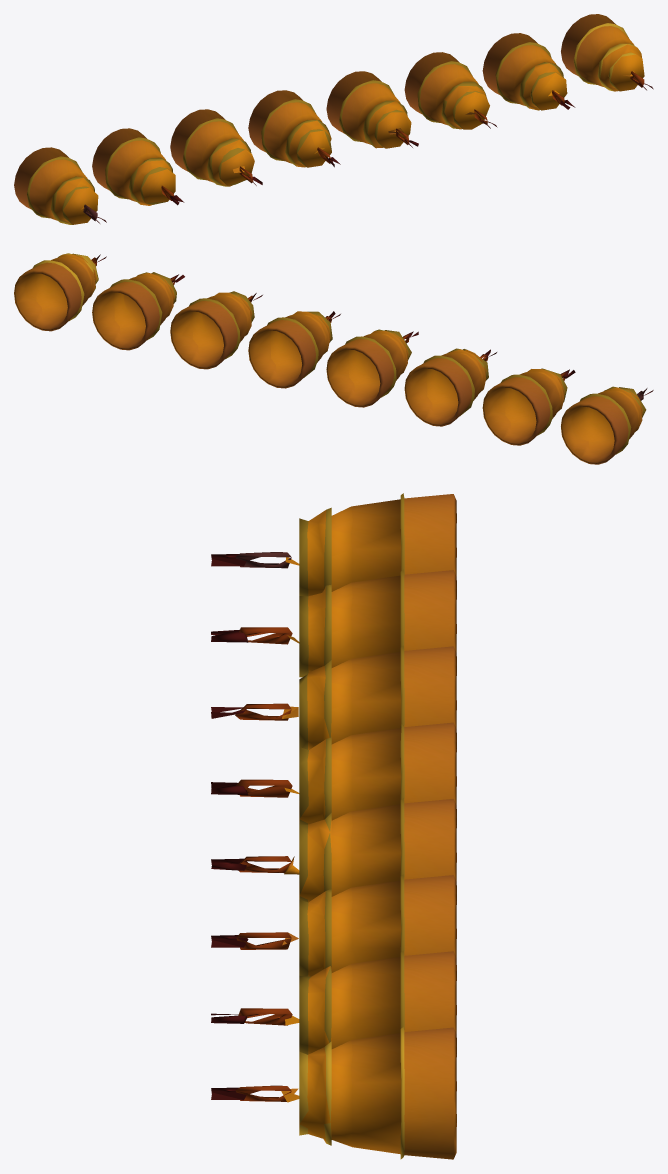
File: shiting2.obj
3 views of the same model, one above another, from view 1: azimuth 30°, elevation 25°; view 2: azimuth 150°, elevation 25°; view 3: azimuth 270°, elevation 25° (orthographic). The views are drawn at different scales.
Size of the model in its own units: 257 by 24.54 by 45.32.
Materials: 3 (1 with a texture image).
